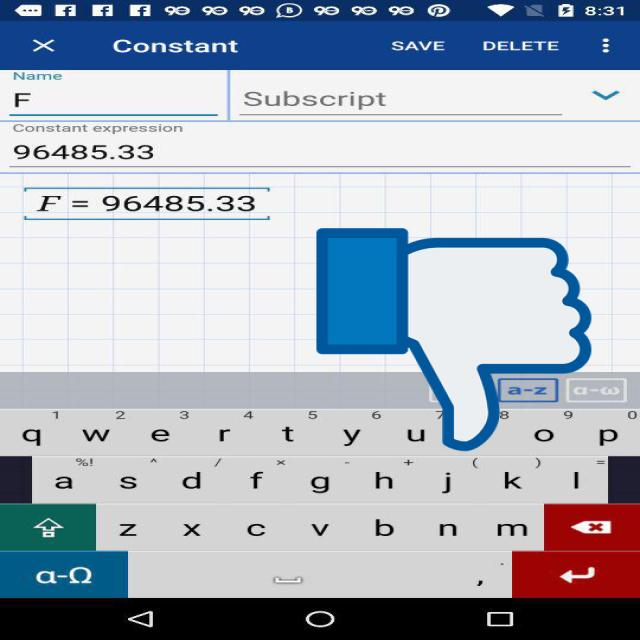obstruction: (316, 223, 592, 456)
